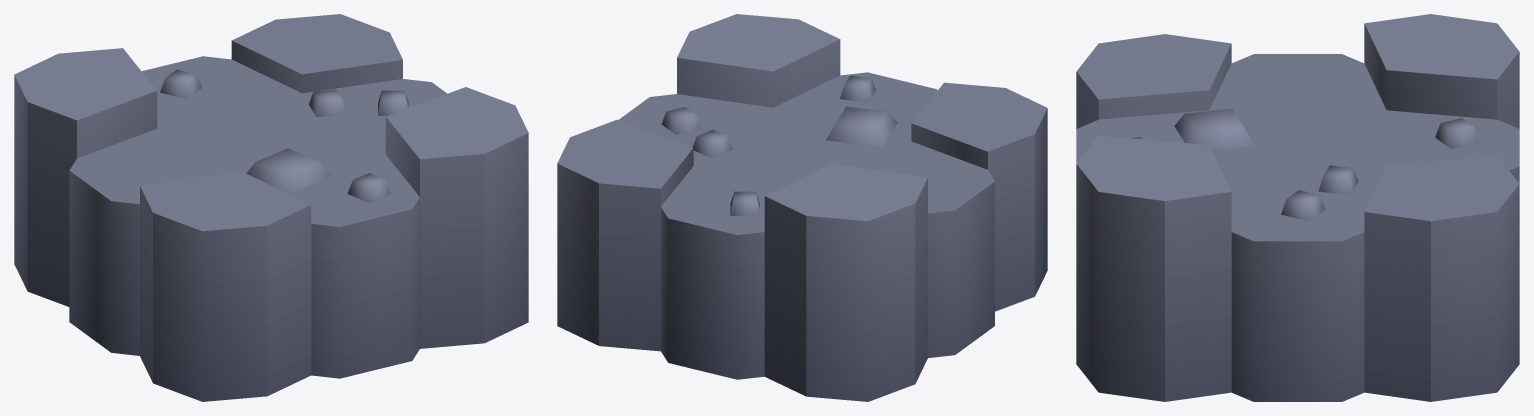
File: rocks.fbx
3 renders of one model, left to right at view 1: azimuth 30°, elevation 25°; view 2: azimuth 150°, elevation 25°; view 3: azimuth 270°, elevation 25°, orthographic. The views are drawn at different scales.
Parts seen in each view (by area): view 1: rocks; view 2: rocks; view 3: rocks.
Boxes of the visible parts, x1,y1,x2,y2 form: rocks: (14,14,528,401); rocks: (557,14,1047,401); rocks: (1076,14,1519,401).
Bounding box in the file's own units: 100 × 50 × 100.
